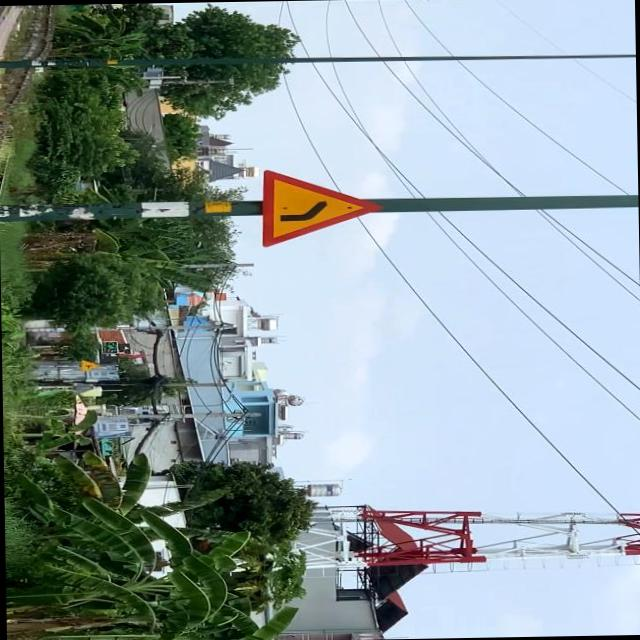W-201a: (258, 168, 385, 246)
